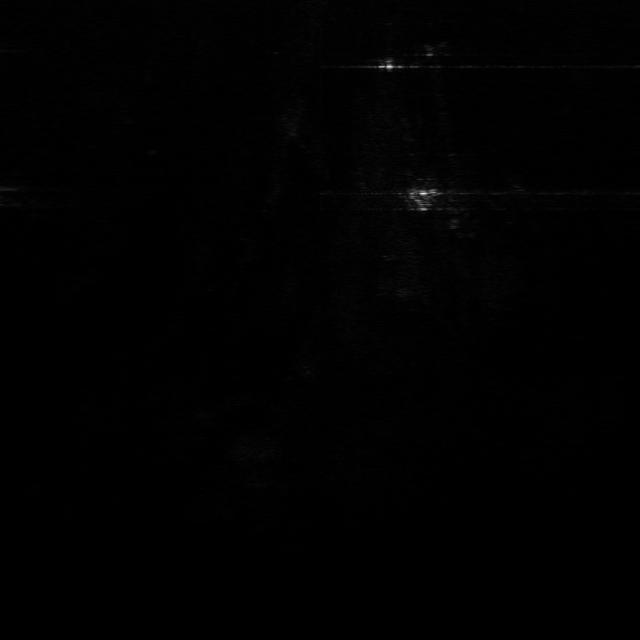rov: (400, 185, 446, 213)
